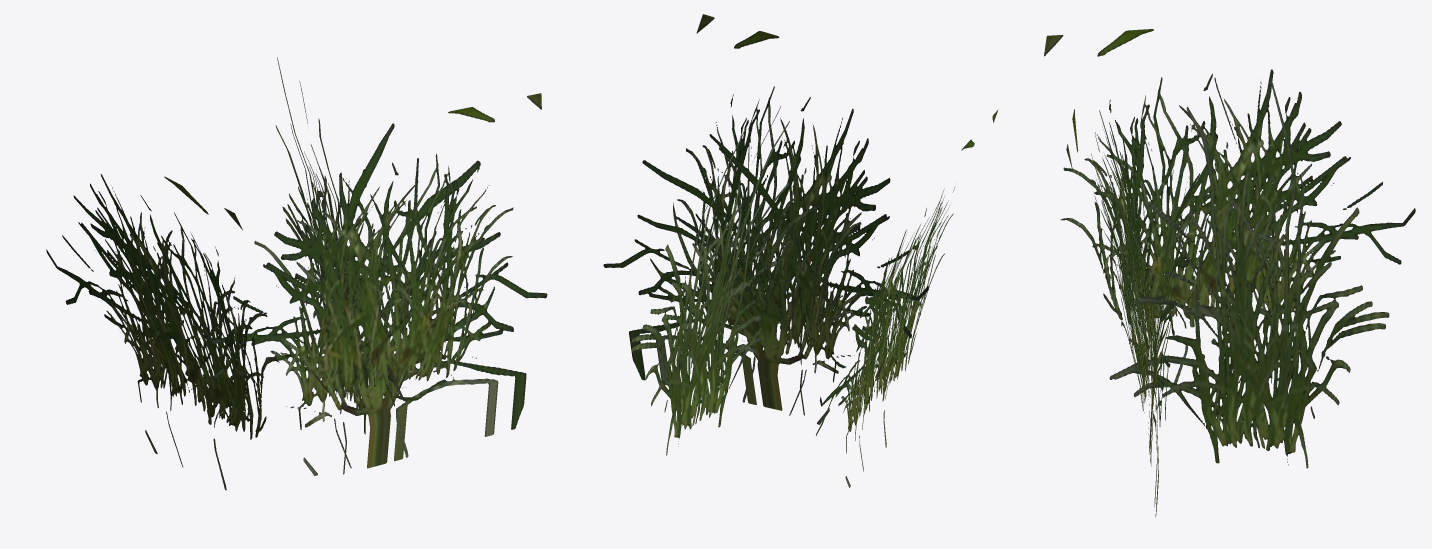
Rendered from meadow_grass_002_c_LOD2.gltf.
The picture shows the model from 3 angles, left to right: view 1: azimuth 30°, elevation 25°; view 2: azimuth 150°, elevation 25°; view 3: azimuth 270°, elevation 25°; orthographic projection. The views are drawn at different scales.
Visible parts, largest first — view 1: meadow_grass_002_c_LOD2; view 2: meadow_grass_002_c_LOD2; view 3: meadow_grass_002_c_LOD2.
Boxes of the visible parts, left/top/right/bottom form: meadow_grass_002_c_LOD2: left=46, top=57, right=547, bottom=490; meadow_grass_002_c_LOD2: left=603, top=14, right=997, bottom=487; meadow_grass_002_c_LOD2: left=1044, top=29, right=1415, bottom=517.
Bounding box in the file's own units: 0.8512 × 0.7079 × 0.6981.
Materials: 1 (1 with a texture image).
